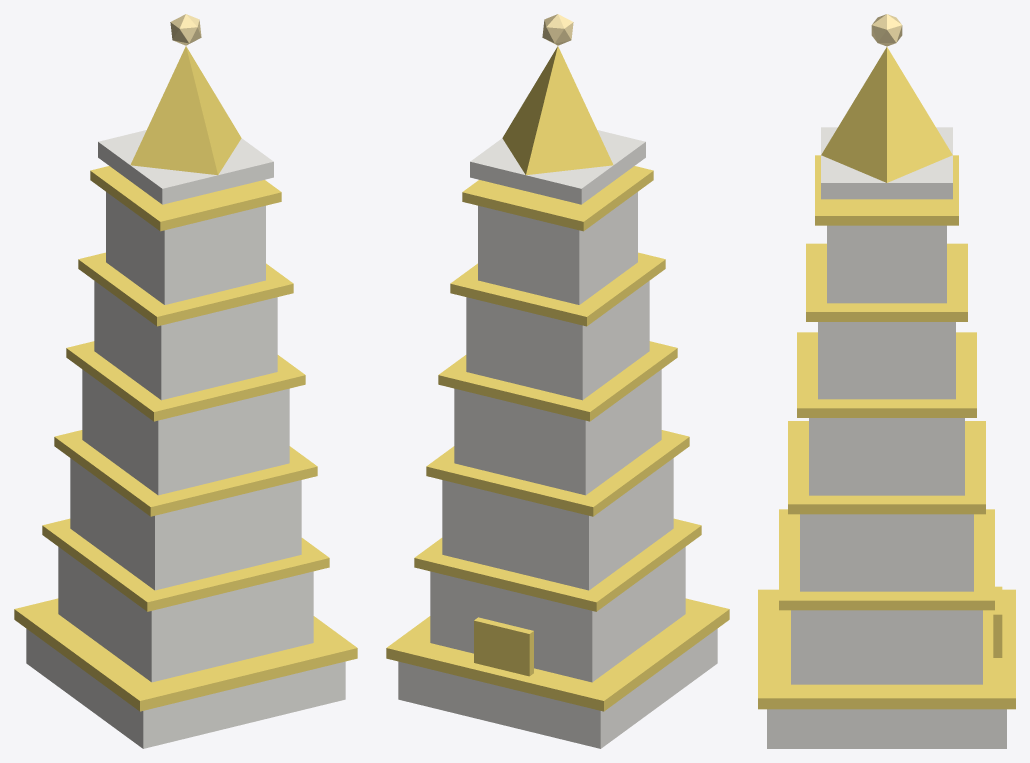
File: tianting_tower.fbx
3 renders of one model, left to right at view 1: azimuth 30°, elevation 25°; view 2: azimuth 150°, elevation 25°; view 3: azimuth 270°, elevation 25°, orthographic. The views are drawn at different scales.
Visible parts, largest first — view 1: TT_tw_l0, TT_tw_l1, TT_tw_l2, TT_tw_l3, TT_tw_base, TT_tw_l4, TT_tw_base_rim, TT_tw_spire, TT_tw_e0, TT_tw_e1, TT_tw_e2, TT_tw_top (+3 smaller); view 2: TT_tw_l1, TT_tw_l0, TT_tw_l2, TT_tw_l3, TT_tw_base, TT_tw_l4, TT_tw_base_rim, TT_tw_spire, TT_tw_e0, TT_tw_e1, TT_tw_e2, TT_tw_top (+4 smaller); view 3: TT_tw_l0, TT_tw_l1, TT_tw_l2, TT_tw_base_rim, TT_tw_l3, TT_tw_base, TT_tw_l4, TT_tw_spire, TT_tw_e0, TT_tw_e1, TT_tw_e2, TT_tw_e3 (+4 smaller).
Boxes of the visible parts, bbox=[...] form: TT_tw_l0: bbox=[58, 547, 313, 682]; TT_tw_l1: bbox=[70, 458, 301, 590]; TT_tw_l2: bbox=[82, 369, 289, 495]; TT_tw_l3: bbox=[94, 281, 277, 400]; TT_tw_base: bbox=[26, 629, 345, 748]; TT_tw_l4: bbox=[106, 192, 265, 304]; TT_tw_base_rim: bbox=[14, 598, 357, 711]; TT_tw_spire: bbox=[130, 46, 241, 175]; TT_tw_e0: bbox=[42, 518, 329, 611]; TT_tw_e1: bbox=[54, 430, 317, 516]; TT_tw_e2: bbox=[66, 341, 305, 421]; TT_tw_top: bbox=[98, 130, 273, 204]; TT_tw_l1: bbox=[442, 458, 673, 590]; TT_tw_l0: bbox=[430, 547, 685, 682]; TT_tw_l2: bbox=[454, 369, 661, 495]; TT_tw_l3: bbox=[466, 281, 649, 400]; TT_tw_base: bbox=[398, 629, 717, 748]; TT_tw_l4: bbox=[478, 192, 637, 304]; TT_tw_base_rim: bbox=[386, 598, 729, 711]; TT_tw_spire: bbox=[502, 46, 613, 175]; TT_tw_e0: bbox=[414, 518, 701, 611]; TT_tw_e1: bbox=[426, 430, 689, 516]; TT_tw_e2: bbox=[438, 341, 677, 421]; TT_tw_top: bbox=[470, 130, 645, 204]; TT_tw_l0: bbox=[791, 610, 982, 684]; TT_tw_l1: bbox=[800, 514, 973, 591]; TT_tw_l2: bbox=[809, 418, 964, 495]; TT_tw_base_rim: bbox=[758, 589, 1015, 709]; TT_tw_l3: bbox=[818, 322, 955, 399]; TT_tw_base: bbox=[767, 709, 1006, 748]; TT_tw_l4: bbox=[827, 225, 946, 303]; TT_tw_spire: bbox=[821, 47, 952, 182]; TT_tw_e0: bbox=[779, 509, 994, 610]; TT_tw_e1: bbox=[788, 421, 985, 514]; TT_tw_e2: bbox=[797, 332, 976, 417]; TT_tw_e3: bbox=[806, 243, 967, 321].
Size of the model in its own units: 4.3 by 12.6 by 4.3.
